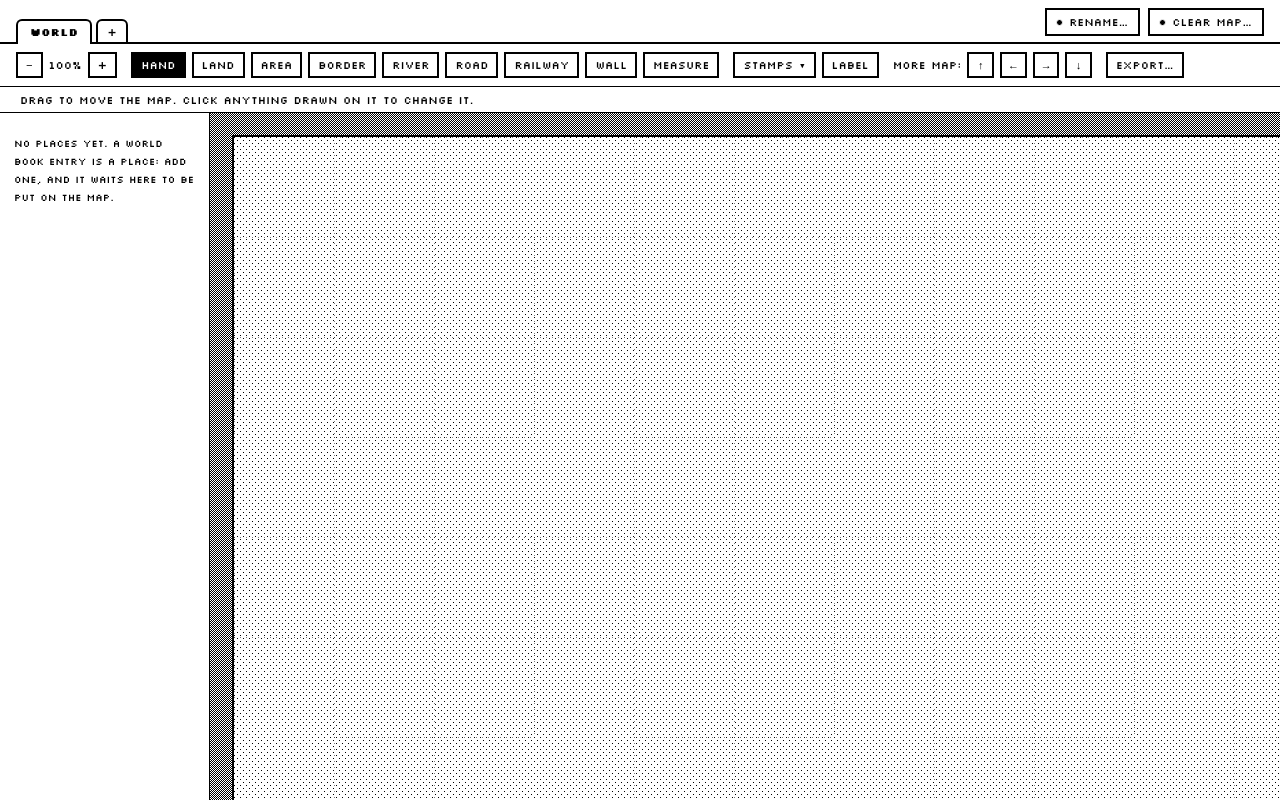
Test case: setting the scale › says why a scale cannot be set, and sets nothing
This screenshot has width=1280, height=800.
Step 1. Click the button "Measure" → (681, 65), box [643,52,720,78]
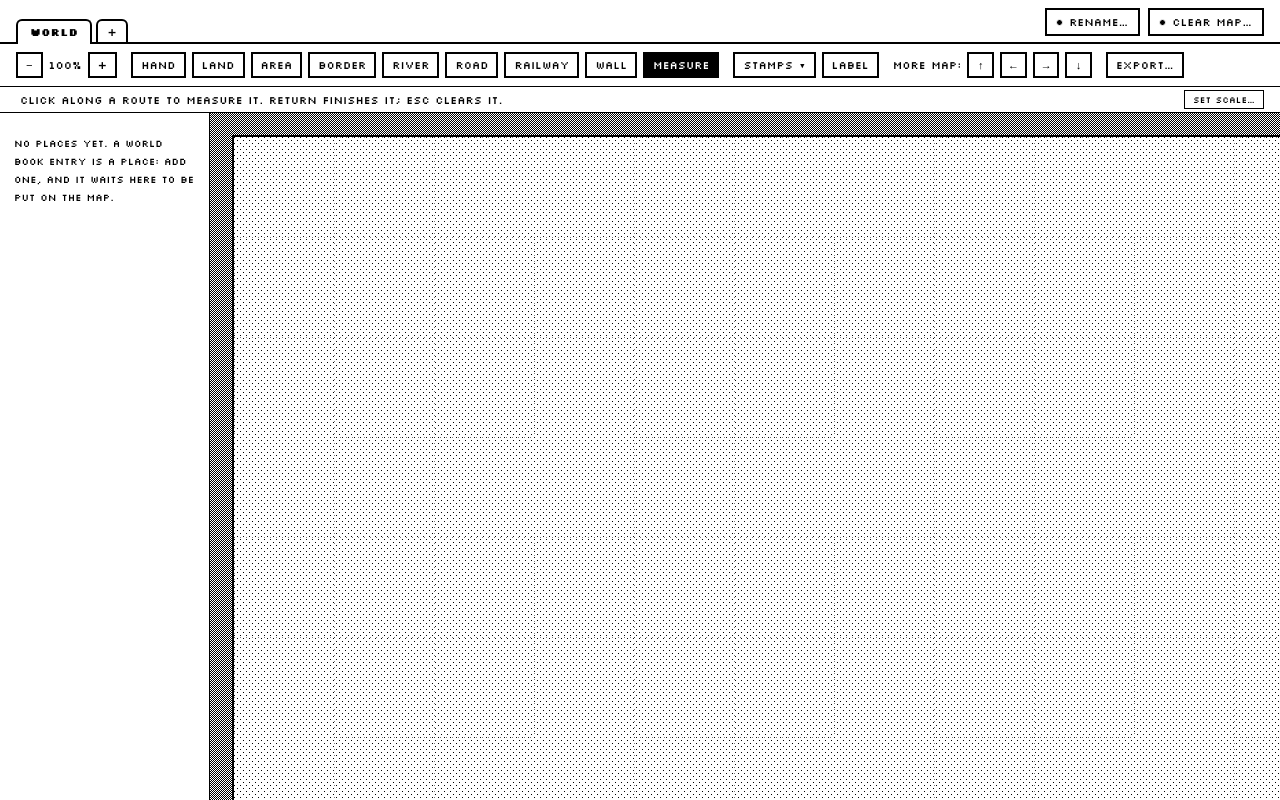
Step 2. Click the button "Set Scale…" → (1224, 100), box [1184,90,1264,109]
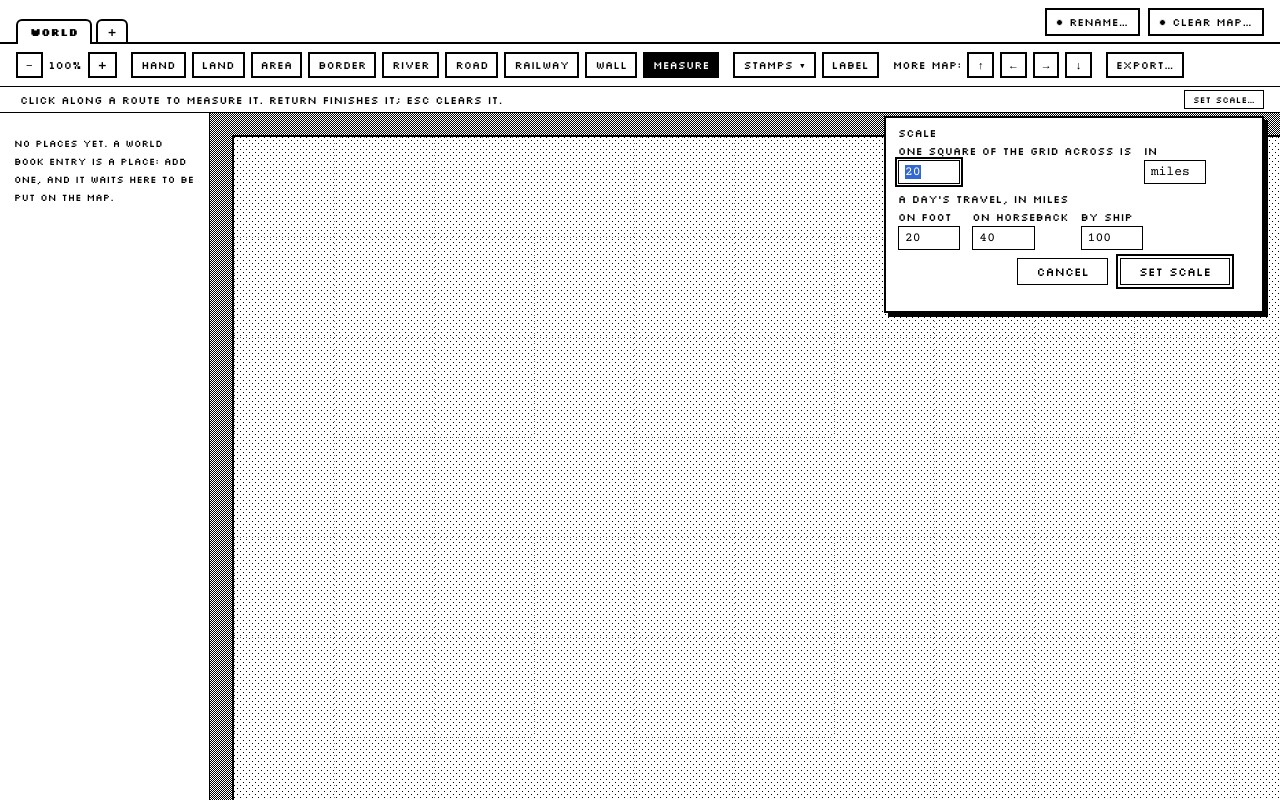
Step 3. Replace the text in the field labelled "One square of the grid across is" with "far" → (929, 172), box [898,160,960,184]
Step 4. Click the button "Set Scale" → (1175, 272), box [1120,258,1230,285]
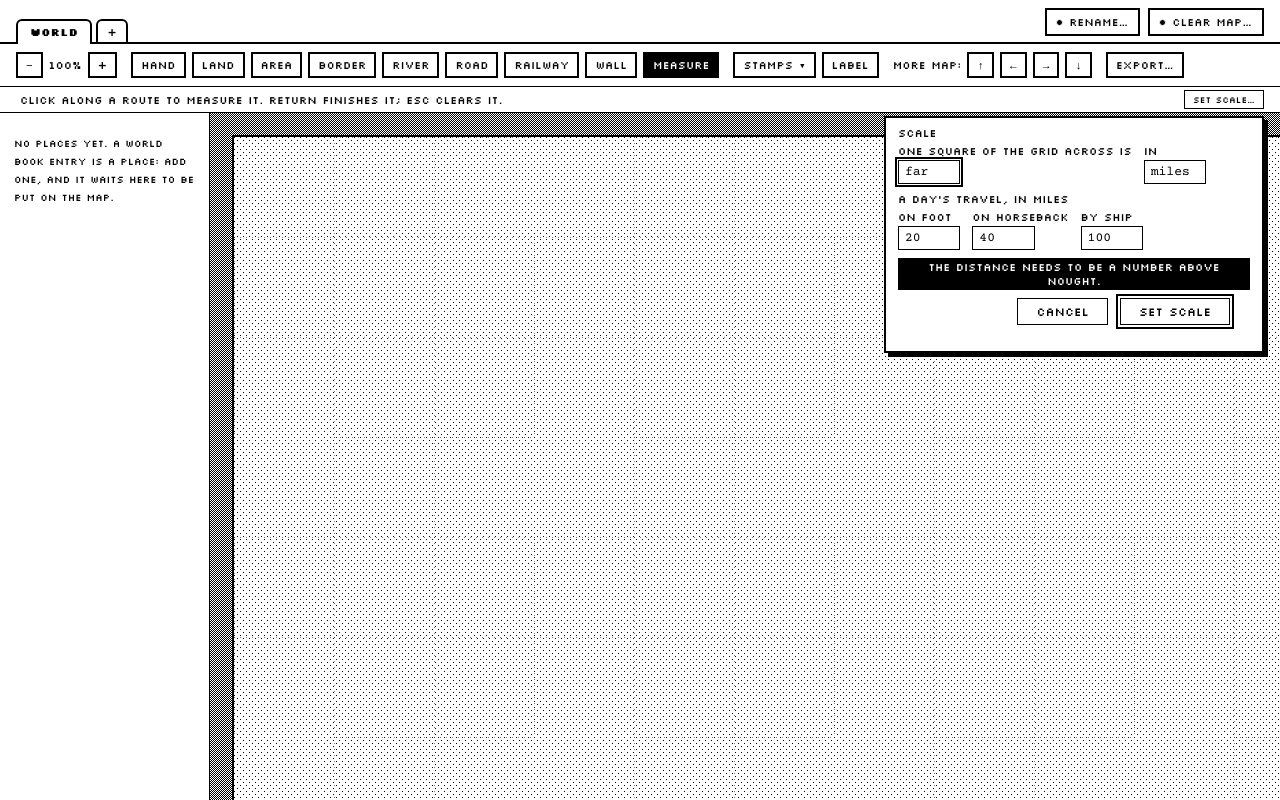
Expected: the message "The distance needs to be a number above nought." is shown, [898,258,1250,290]
Step 5. Replace the text in the field labelled "One square of the grid across is" with "10" → (929, 172), box [898,160,960,184]
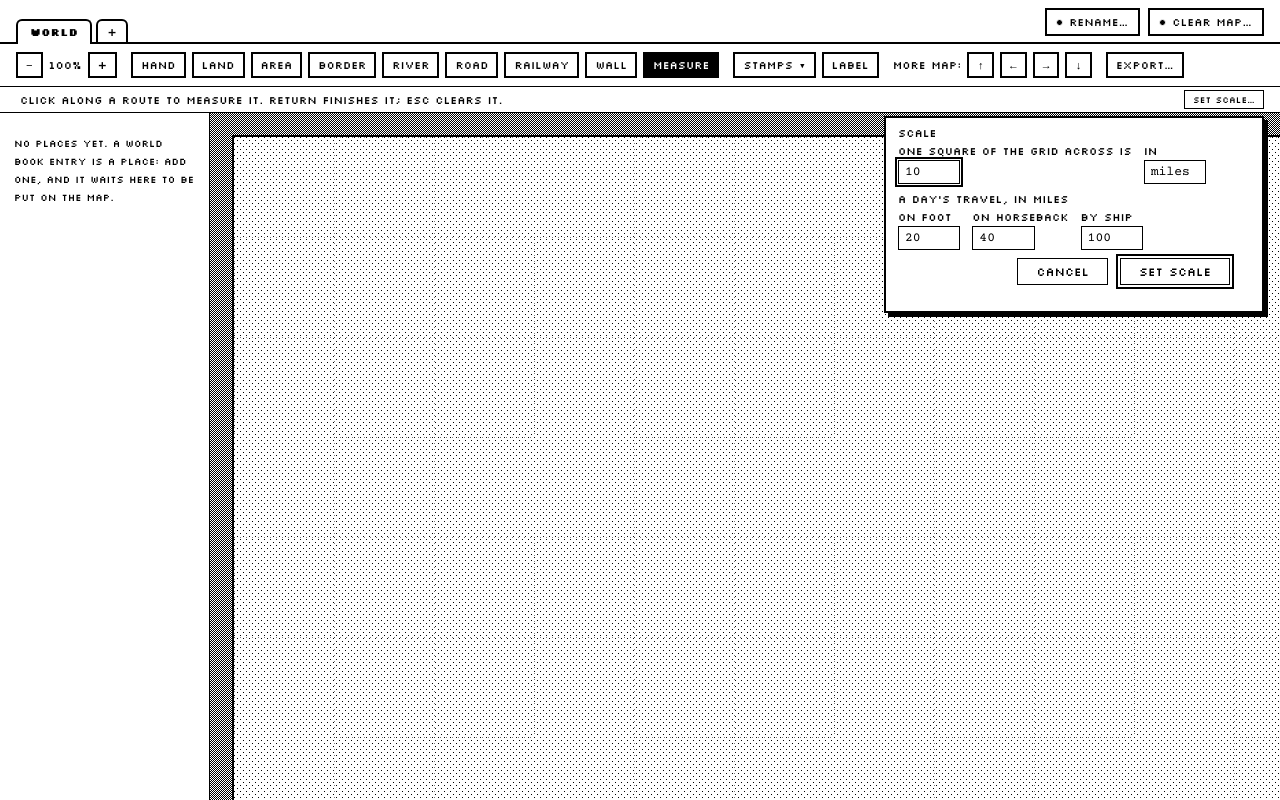
Step 6. Replace the text in the field labelled "on horseback" with "0" → (1004, 238), box [972,226,1035,250]
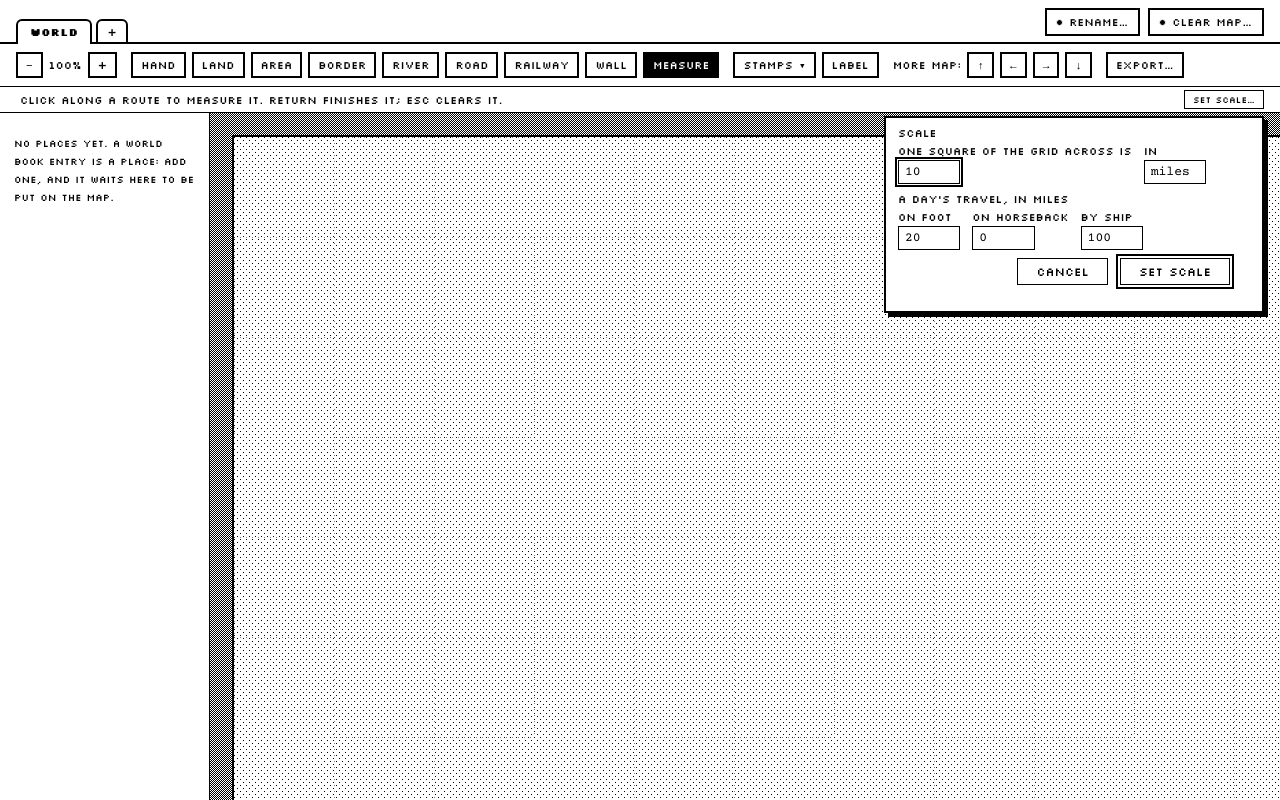
Step 7. Click the button "Set Scale" → (1175, 272), box [1120,258,1230,285]
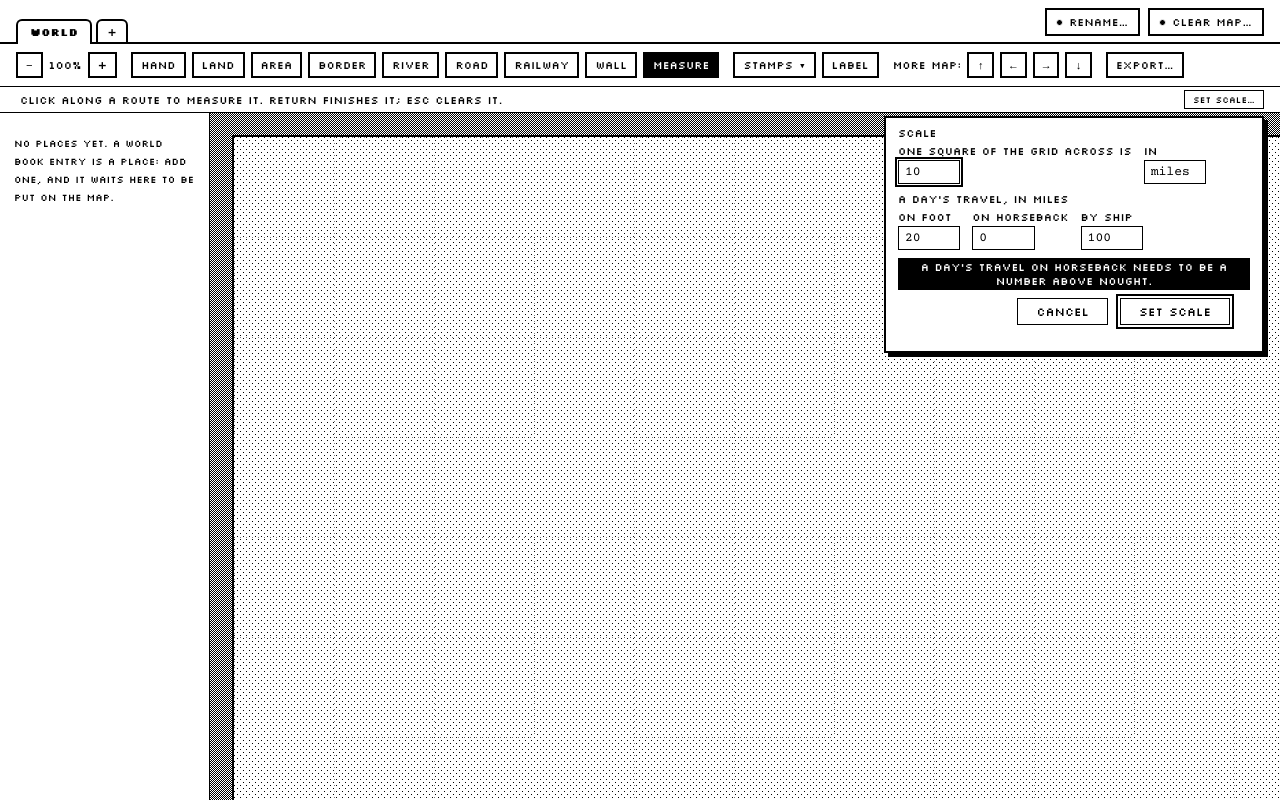
Expected: the message "A day’s travel on horseback needs to be a number above nought." is shown, [898,258,1250,290]
